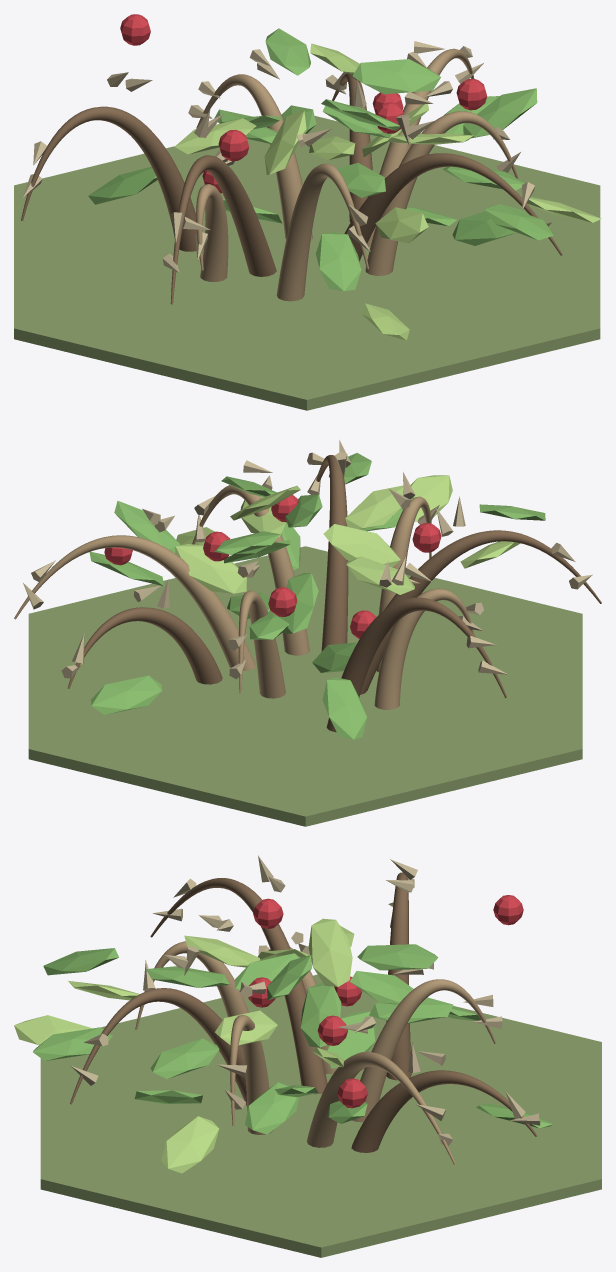
File: thicket.glb
3 views of the same model, one above another, from view 1: azimuth 30°, elevation 25°; view 2: azimuth 150°, elevation 25°; view 3: azimuth 270°, elevation 25° (orthographic). The views are drawn at different scales.
Parts seen in each view (by area): view 1: thicket; view 2: thicket; view 3: thicket.
Part boxes in pixels (left/top/right/bottom): thicket: left=14, top=14, right=601, bottom=410; thicket: left=14, top=440, right=601, bottom=826; thicket: left=14, top=855, right=601, bottom=1257.
Bounding box in the file's own units: 1.7 × 0.5979 × 1.54.
